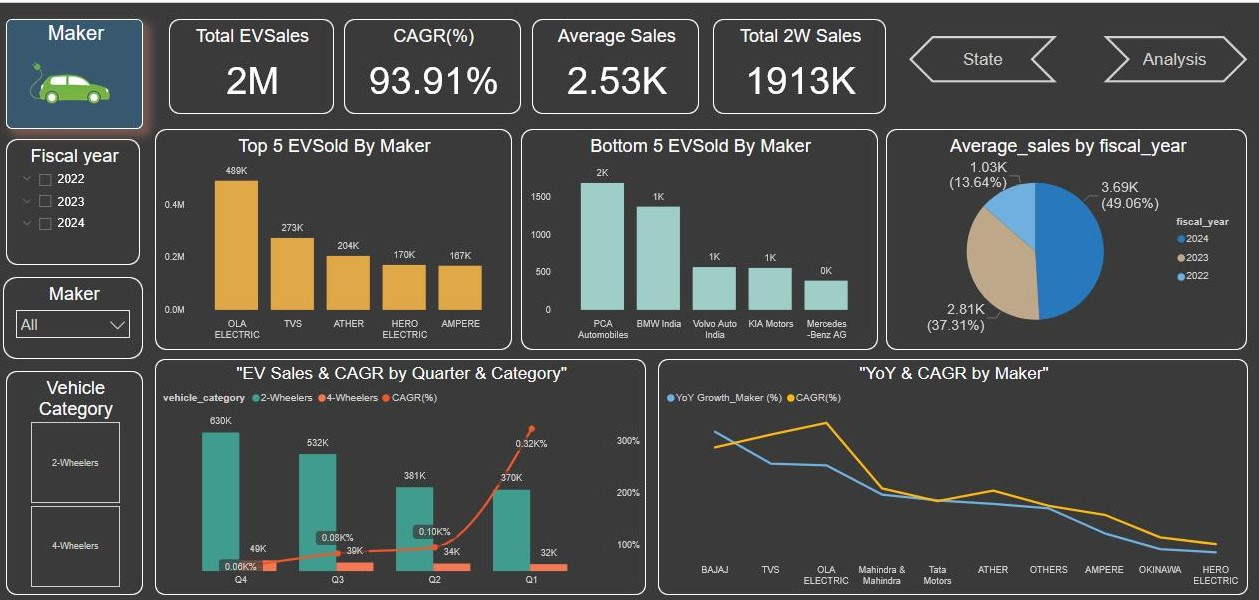

This screenshot's page, from the dashboard's own definition file:
{"tool":"powerbi","page":{"name":"Maker","canvas":[1680,800],"ordinal":2},"visuals":[{"type":"clusteredColumnChart","title":"Top  5 EVSold By Maker","fields":{"Category":["dim_master.maker"],"Y":["key_measure_maker.Total_EV_SaleaByMaker"]},"box":[220.4,166.2,469.7,290.8],"z":0},{"type":"clusteredColumnChart","title":"Bottom 5 EVSold By Maker","fields":{"Category":["dim_master.maker"],"Y":["key_measure_maker.Total_EV_SaleaByMaker"]},"box":[702.7,166.2,469.7,290.8],"z":1000},{"type":"card","title":"Total EVSales","fields":{"Values":["key_measure_maker.TotalEVSales"]},"box":[238.5,21.7,216.8,124.6],"z":2000},{"type":"card","title":"CAGR(%)","fields":{"Values":["key_measure_maker.CAGR(%)"]},"box":[469.7,21.7,233,124.6],"z":3000},{"type":"card","title":"Average Sales","fields":{"Values":["key_measure_maker.Average_sales"]},"box":[717.2,21.7,220.4,124.6],"z":4000},{"type":"card","title":"Total 2W Sales","fields":{"Values":["Key_measures_state.2W EV Sales"]},"box":[955.6,21.7,227.6,124.6],"z":5000},{"type":"pieChart","fields":{"Category":["dim_date.fiscal_year"],"Y":["key_measure_maker.Average_sales"]},"box":[1183.2,166.2,476.9,290.8],"z":6000},{"type":"lineClusteredColumnComboChart","title":"\"EV Sales & CAGR by Quarter & Category\"","fields":{"Category":["dim_date.quarter"],"Series":["dim_category.vehicle_category"],"Y":["key_measure_maker.Total_EV_SaleaByMaker"],"Y2":["key_measure_maker.CAGR(%)"]},"box":[220.4,469.7,646.7,310.7],"z":7000},{"type":"lineChart","title":"\"YoY & CAGR by Maker\"","fields":{"Category":["dim_master.maker"],"Y":["key_measure_maker.YoY Growth_Maker (%)"],"Y2":["key_measure_maker.CAGR(%)"]},"box":[883.4,469.7,776.8,310.7],"z":8000},{"type":"slicer","title":"Vehicle Category","fields":{"Values":["dim_category.vehicle_category"]},"box":[23.5,485.9,180.6,294.5],"z":9000},{"type":"slicer","title":"Maker","fields":{"Values":["dim_master.maker"]},"box":[19.9,361.3,184.3,108.4],"z":10000},{"type":"slicer","title":"Fiscal year","fields":{"Values":["dim_date.fiscal_year","dim_date.quarter"]},"box":[23.5,178.8,177,166.2],"z":11000},{"type":"actionButton","box":[1470.5,43.4,189.7,61.4],"z":12000},{"type":"actionButton","box":[1213.9,43.4,195.1,61.4],"z":13000},{"type":"image","title":"Maker","box":[23.5,21.7,180.6,144.5],"z":14000}]}

Visuals, with their boxes in screenshot pixels (x1, y1, x2, y2), scaled from the page's 1680x800 canvas onto the 1259x600 screenshot:
"Top  5 EVSold By Maker" clusteredColumnChart: [165,125,517,343]
"Bottom 5 EVSold By Maker" clusteredColumnChart: [527,125,879,343]
"Total EVSales" card: [179,16,341,110]
"CAGR(%)" card: [352,16,527,110]
"Average Sales" card: [537,16,703,110]
"Total 2W Sales" card: [716,16,887,110]
pieChart - dim_date.fiscal_year x key_measure_maker.Average_sales: [887,125,1244,343]
""EV Sales & CAGR by Quarter & Category"" lineClusteredColumnComboChart: [165,352,650,585]
""YoY & CAGR by Maker"" lineChart: [662,352,1244,585]
"Vehicle Category" slicer: [18,364,153,585]
"Maker" slicer: [15,271,153,352]
"Fiscal year" slicer: [18,134,150,259]
actionButton: [1102,33,1244,79]
actionButton: [910,33,1056,79]
"Maker" image: [18,16,153,125]
